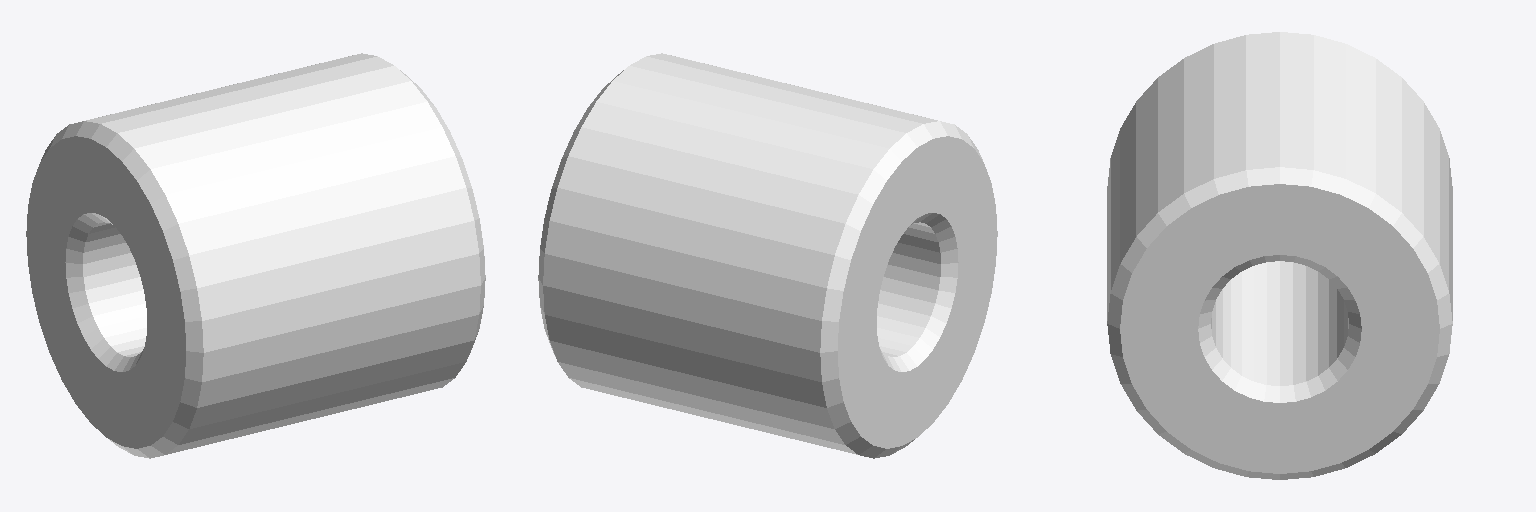
The model's file is RollModel.obj.
The picture shows the model from 3 angles: view 1: azimuth 30°, elevation 25°; view 2: azimuth 150°, elevation 25°; view 3: azimuth 270°, elevation 25°; orthographic projection.
Visible parts, largest first — view 1: RollModel; view 2: RollModel; view 3: RollModel.
Boxes of the visible parts, x1=… form: RollModel: x1=26, y1=53, x2=485, y2=458; RollModel: x1=538, y1=53, x2=997, y2=458; RollModel: x1=1107, y1=32, x2=1452, y2=479.
Bounding box in the file's own units: 0.4 × 0.4 × 0.4.